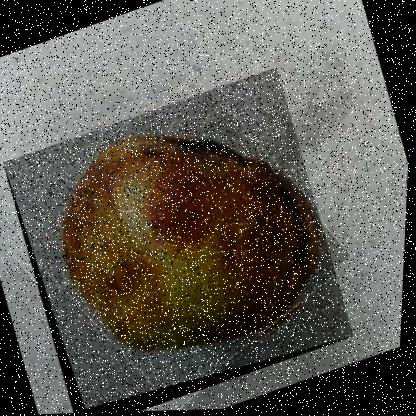guava_rotten: (0, 65, 367, 415)
